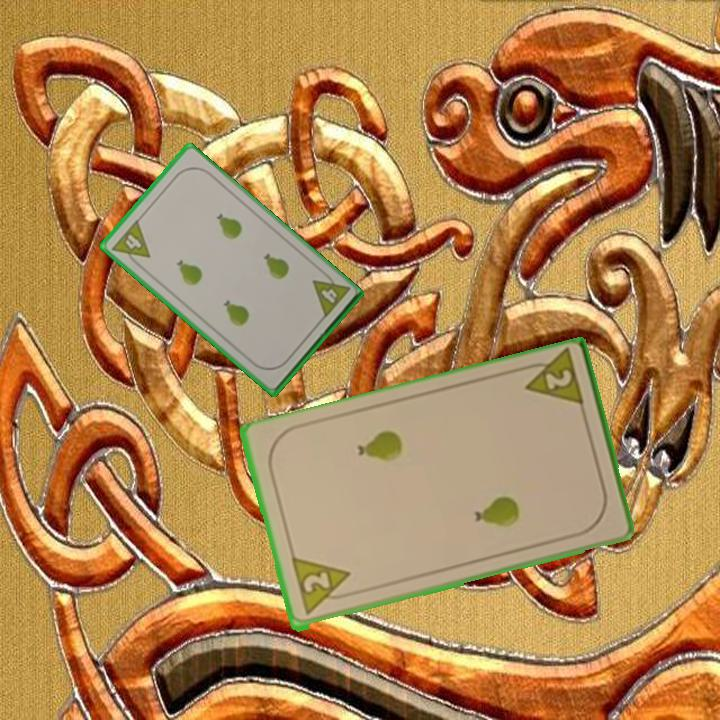2p: (288, 555, 357, 620), (541, 366, 575, 394)
4p: (108, 216, 153, 271), (309, 267, 352, 321)
